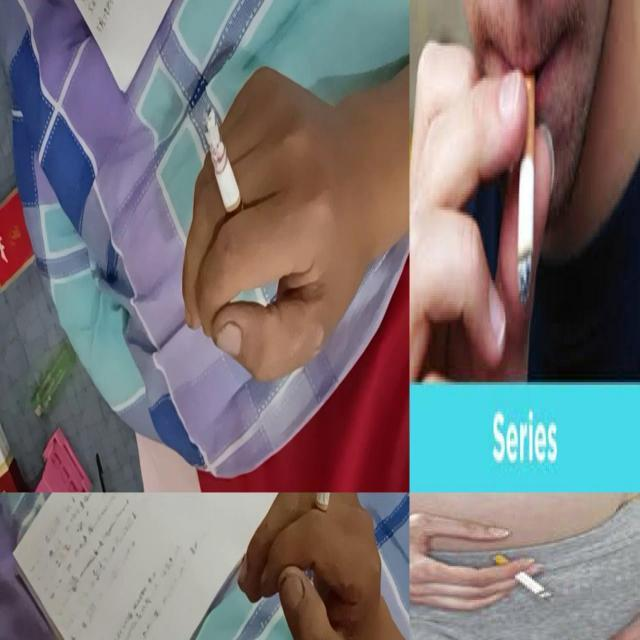cigarette: (205, 106, 247, 236), (516, 74, 536, 306), (493, 554, 552, 600), (308, 492, 342, 536)
